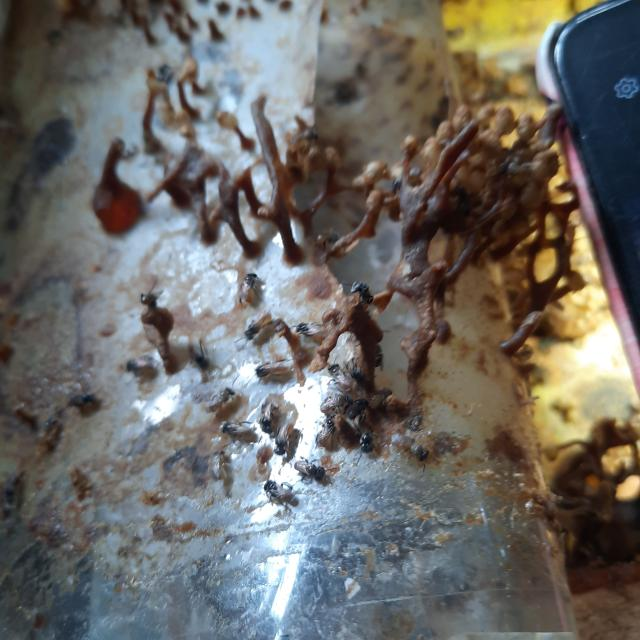honeybee: (253, 399, 305, 453), (340, 282, 385, 326), (252, 357, 299, 387), (135, 294, 173, 324), (294, 457, 328, 490), (206, 383, 246, 410), (258, 474, 291, 506), (402, 432, 431, 465), (330, 357, 355, 394), (351, 435, 386, 461), (224, 415, 253, 443), (242, 310, 266, 343), (232, 272, 263, 297), (181, 350, 218, 368), (292, 320, 315, 348)
